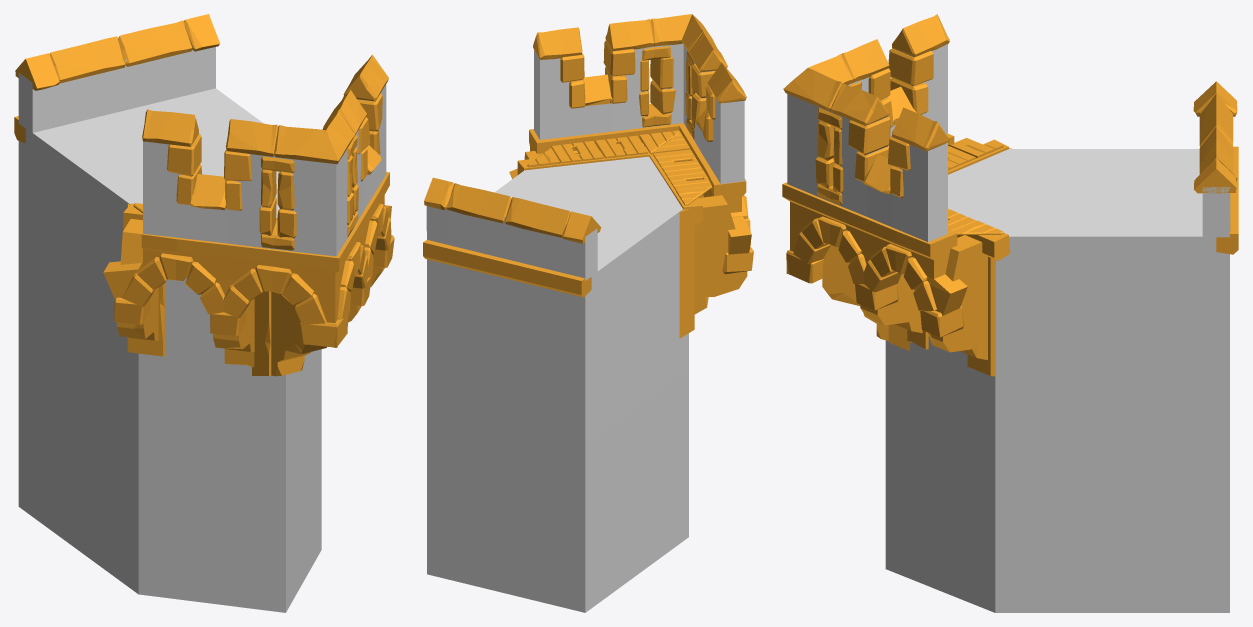
Rendered from SM_Rampart_3x6m_Mach_Guard_Back_A_Fantasy_Base.fbx.
3 renders of one model, left to right at view 1: azimuth 30°, elevation 25°; view 2: azimuth 150°, elevation 25°; view 3: azimuth 270°, elevation 25°, orthographic. The views are drawn at different scales.
Parts seen in each view (by area): view 1: SM_Rampart_3x6m_Mach_Guard_Back_A_Fantasy_Base; view 2: SM_Rampart_3x6m_Mach_Guard_Back_A_Fantasy_Base; view 3: SM_Rampart_3x6m_Mach_Guard_Back_A_Fantasy_Base.
Boxes of the visible parts, x1=… form: SM_Rampart_3x6m_Mach_Guard_Back_A_Fantasy_Base: x1=14, y1=14, x2=394, y2=612; SM_Rampart_3x6m_Mach_Guard_Back_A_Fantasy_Base: x1=423, y1=14, x2=753, y2=612; SM_Rampart_3x6m_Mach_Guard_Back_A_Fantasy_Base: x1=782, y1=14, x2=1238, y2=612.
Bounding box in the file's own units: 4.66 × 8.01 × 6.6.
